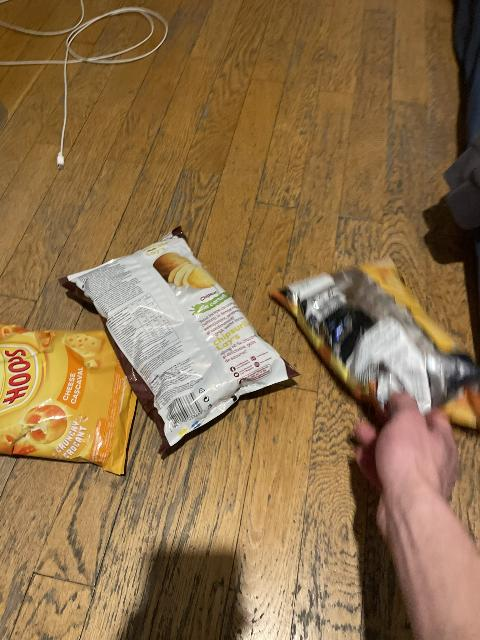Chio Cascaval 125g: (271, 260, 480, 432)
Chio Hula Hoops Cheese 70g: (1, 320, 139, 467)
Lays Beef Grilled Ribs 125g: (63, 232, 304, 443)
